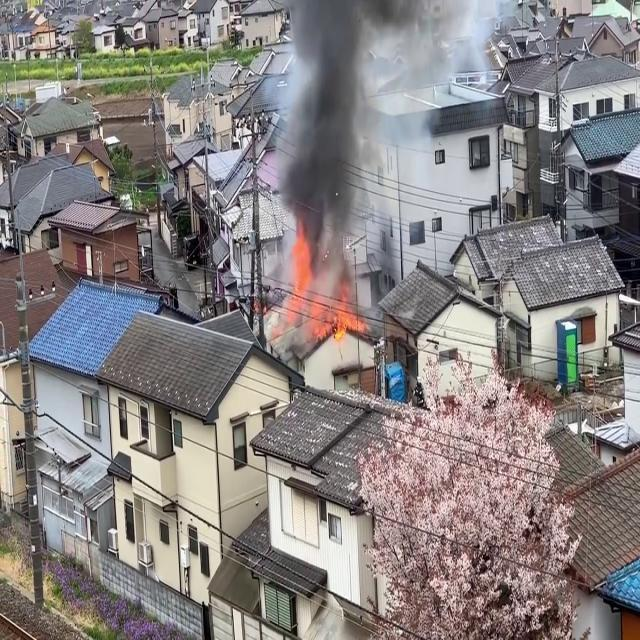Fire: (278, 230, 367, 344), (307, 296, 367, 342)
Smoke: (268, 0, 407, 303)
